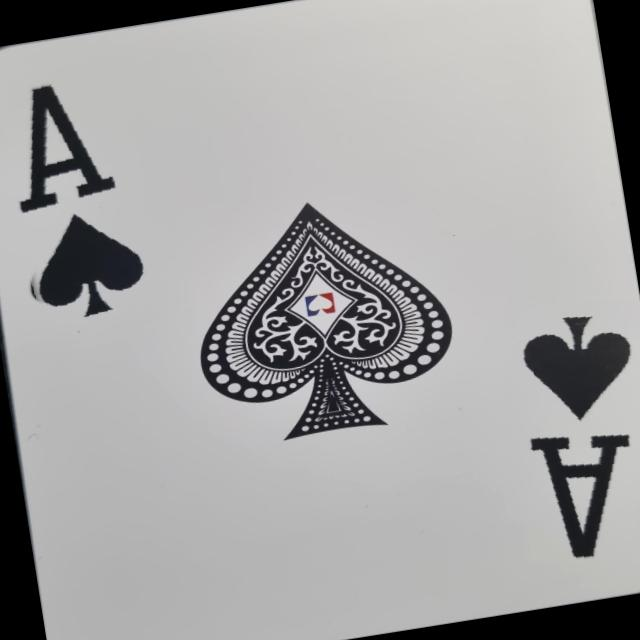As: (477, 288, 640, 590), (0, 57, 165, 351)
